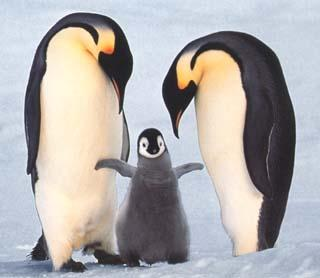emporer: (154, 9, 305, 260), (20, 5, 147, 275)
